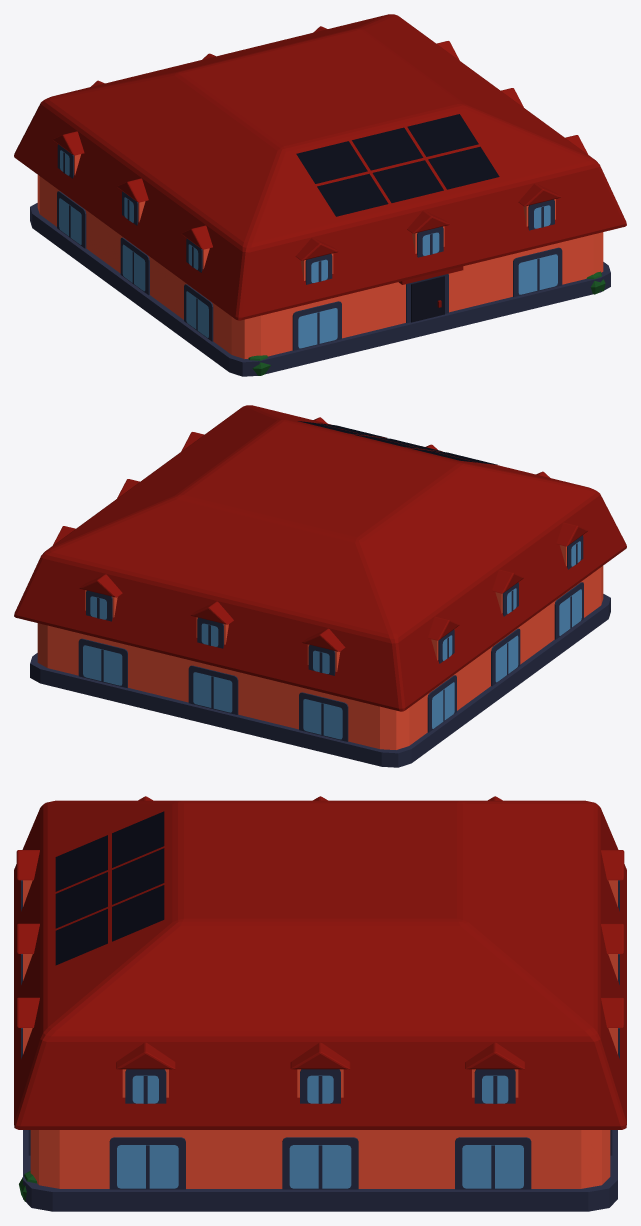
File: house-2x2-1f-mansard-c-solar.glb
The picture shows the model from 3 angles, top to bottom: view 1: azimuth 30°, elevation 25°; view 2: azimuth 150°, elevation 25°; view 3: azimuth 270°, elevation 25°; orthographic projection. The views are drawn at different scales.
Parts seen in each view (by area): view 1: house-2x2-1f-mansard-c-solar; view 2: house-2x2-1f-mansard-c-solar; view 3: house-2x2-1f-mansard-c-solar.
Boxes of the visible parts, x1,y1,x2,y2 form: house-2x2-1f-mansard-c-solar: (14,14,626,376); house-2x2-1f-mansard-c-solar: (14,405,626,767); house-2x2-1f-mansard-c-solar: (14,796,626,1211).
Size of the model in its own units: 1.99 by 0.8052 by 1.99.
1 material, 1 textured.
